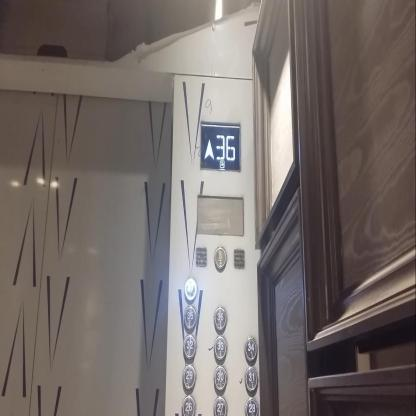26: (181, 394, 196, 416)
27: (213, 394, 226, 416)
28: (244, 396, 259, 415)
29: (182, 363, 196, 390)
30: (213, 365, 227, 391)
31: (244, 366, 258, 392)
32: (182, 334, 197, 360)
33: (213, 334, 227, 360)
34: (243, 336, 258, 362)
35: (183, 304, 197, 330)
36: (213, 305, 227, 331)
alarm: (213, 245, 227, 272)
blur: (184, 276, 198, 302)
led: (199, 119, 241, 172)
